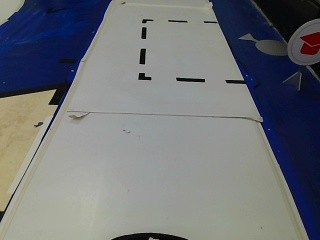school: (287, 21, 318, 67)
